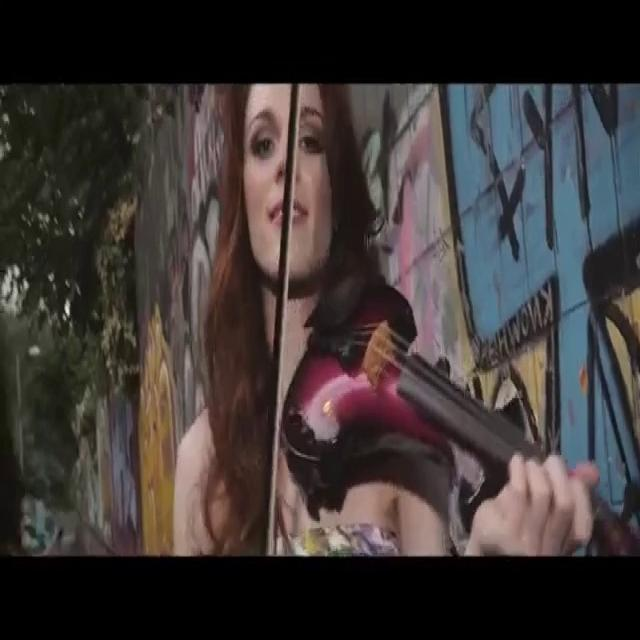Violin: (269, 265, 638, 559)
